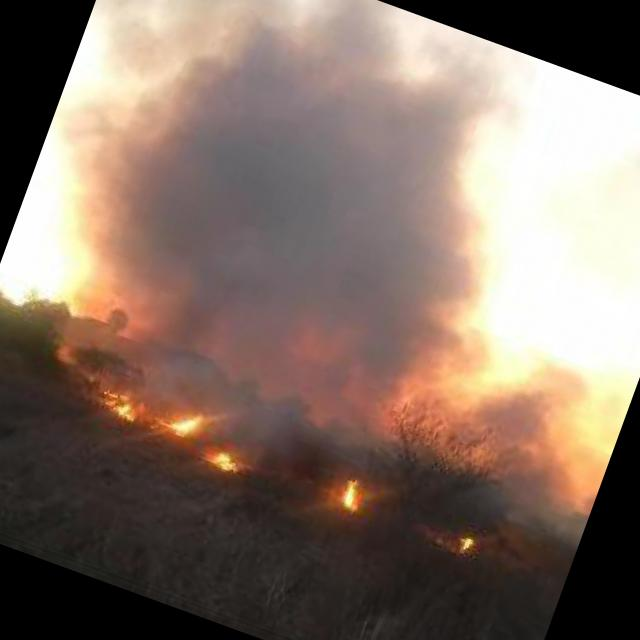fire: (160, 398, 208, 438), (99, 381, 143, 419), (338, 477, 370, 512), (208, 446, 244, 474), (452, 530, 476, 554)
smoke: (0, 0, 573, 483), (434, 346, 632, 548)
